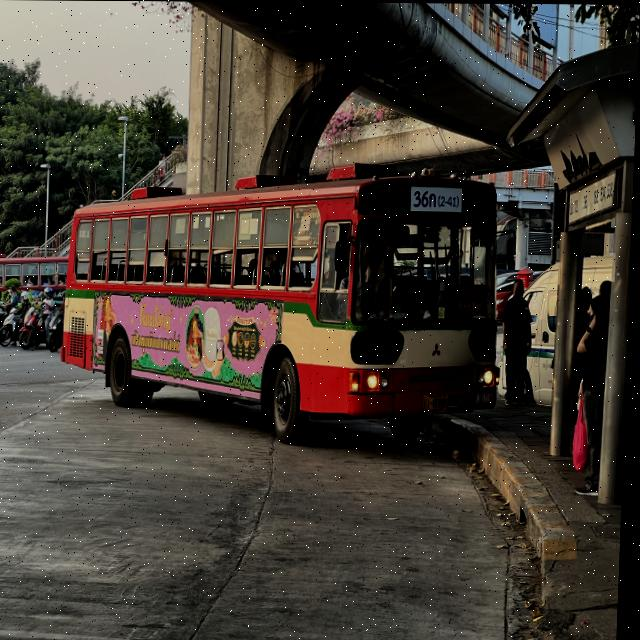BMTA-bus: (58, 170, 510, 446)
Bus-Line-Number: (413, 185, 467, 214)
Destination-Sign-Extra-Bus: (453, 280, 491, 316)
